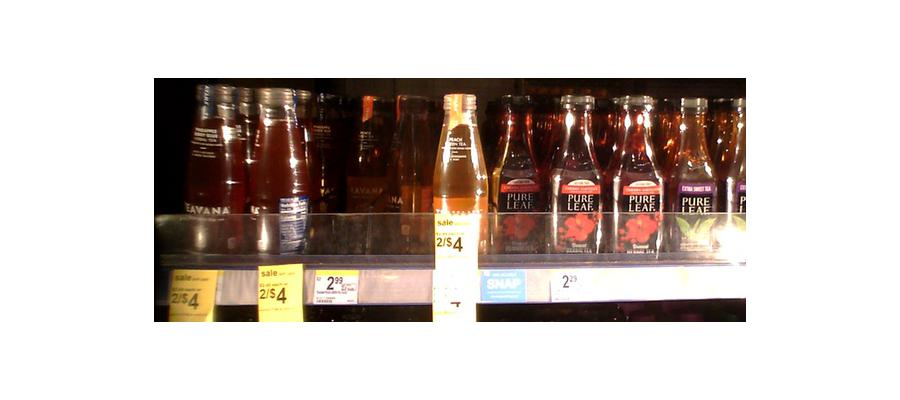bottle: (430, 92, 484, 293), (250, 83, 312, 255), (184, 79, 242, 252), (609, 89, 666, 260), (487, 85, 543, 255), (548, 92, 606, 255), (670, 90, 718, 258), (346, 91, 390, 241), (393, 88, 432, 239)
